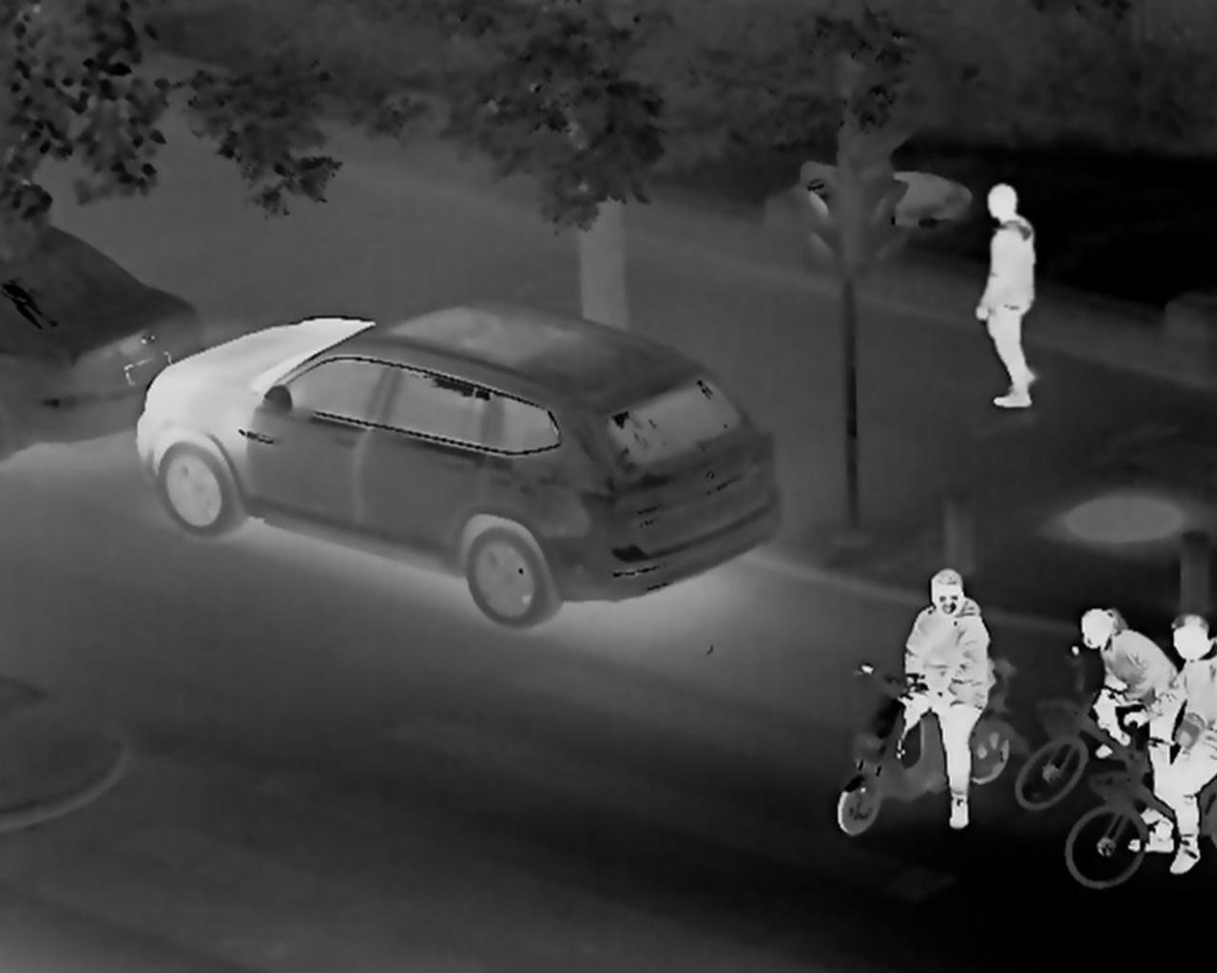person: (892, 566, 996, 830), (1123, 613, 1217, 874), (1073, 604, 1169, 820), (965, 176, 1044, 411)
